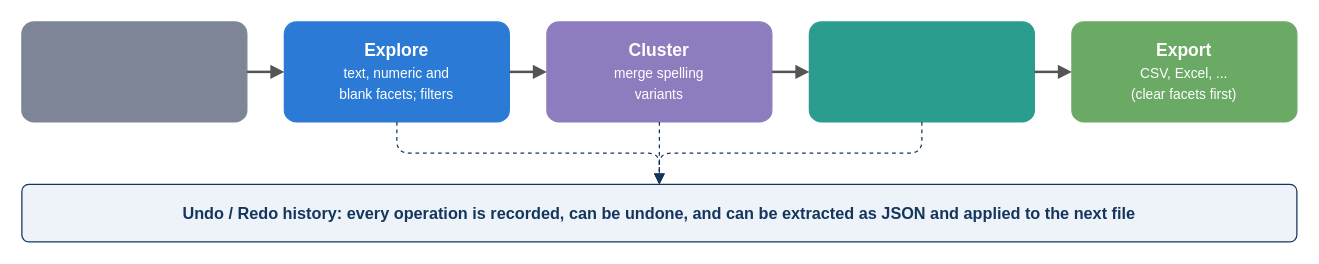
Image size: 1319x264. Some labels were removed from this diagram. The box of each missing label's shape, as (x1, y1, x2, y2) in pixels:
Import file type, encoding, parse numbers and dates: (21, 21, 247, 122)
Transform common transforms, GREL, new columns: (808, 21, 1034, 122)
